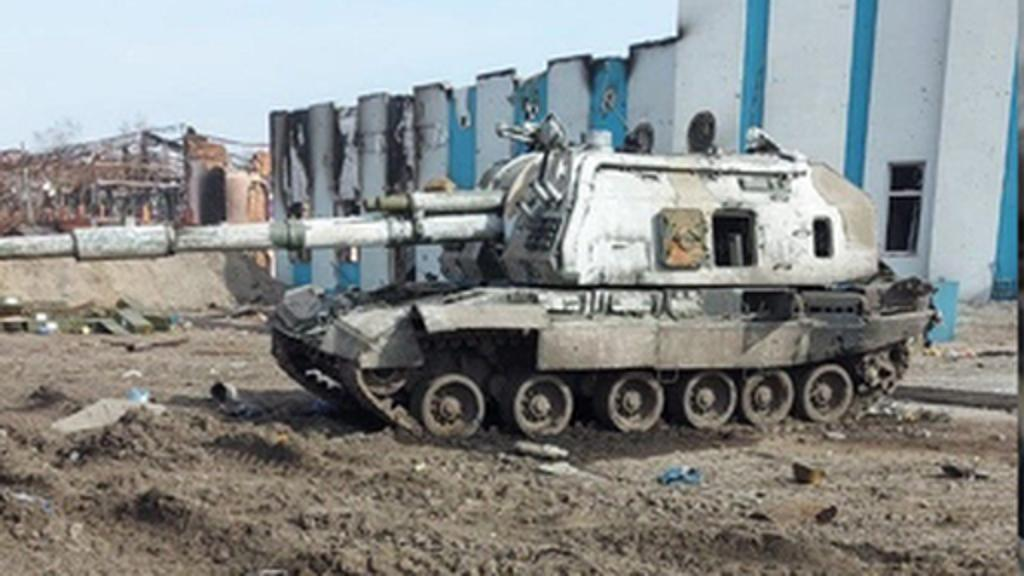ART: (0, 136, 936, 428)
